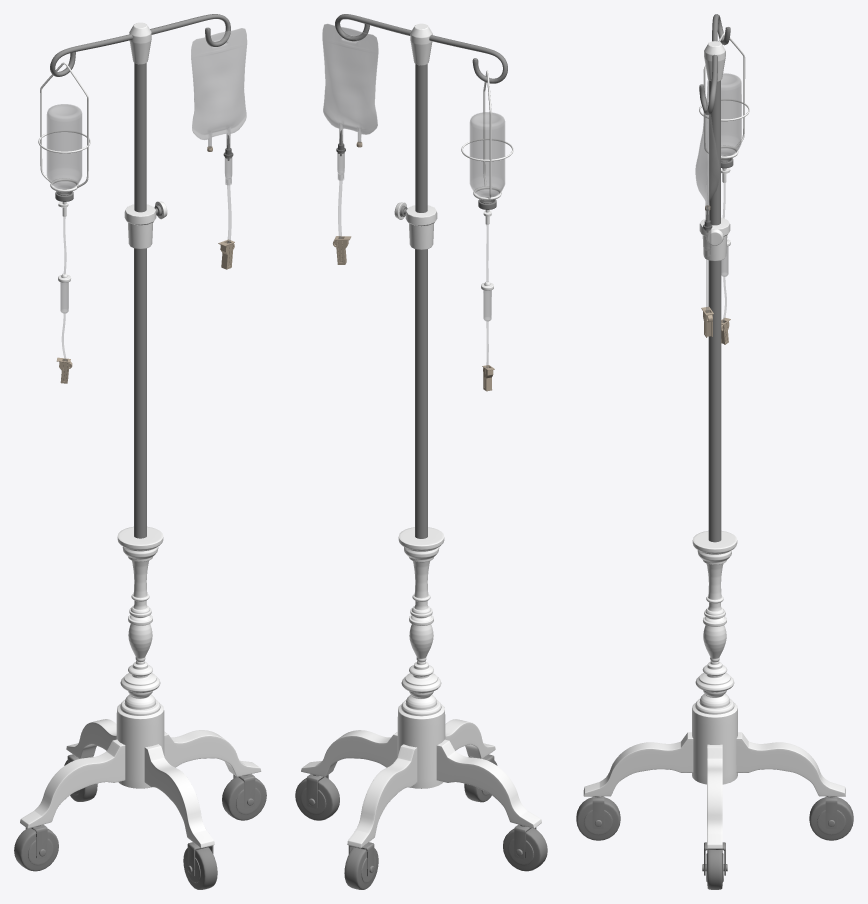
File: Preview3.glb
3 renders of one model, left to right at view 1: azimuth 30°, elevation 25°; view 2: azimuth 150°, elevation 25°; view 3: azimuth 270°, elevation 25°, orthographic. The views are drawn at different scales.
Parts seen in each view (by area): view 1: under_pole, infusion_pack, infusion_bottle, upper_pole, wheel3, wheel1, wheel4; view 2: under_pole, infusion_pack, infusion_bottle, upper_pole, wheel3, wheel1, wheel2; view 3: under_pole, infusion_bottle, upper_pole, infusion_pack, wheel2, wheel4, wheel3.
Part boxes in pixels (x1,y1,x2,y2): under_pole: (20, 201, 261, 848); infusion_pack: (191, 28, 246, 269); infusion_bottle: (38, 62, 90, 383); upper_pole: (50, 14, 230, 212); wheel3: (222, 774, 266, 820); wheel1: (14, 824, 58, 871); wheel4: (183, 842, 217, 889); under_pole: (301, 202, 541, 848); infusion_pack: (322, 23, 378, 264); infusion_bottle: (461, 70, 513, 391); upper_pole: (335, 14, 507, 212); wheel3: (295, 774, 339, 820); wheel1: (503, 824, 547, 871); wheel2: (344, 842, 378, 889); under_pole: (583, 217, 845, 848); infusion_bottle: (699, 32, 749, 344); upper_pole: (699, 14, 730, 225); infusion_pack: (695, 92, 719, 337); wheel2: (809, 796, 853, 840); wheel4: (576, 796, 620, 840); wheel3: (702, 842, 727, 889).
Bounding box in the file's own units: 3.96 × 12.5 × 3.96.
